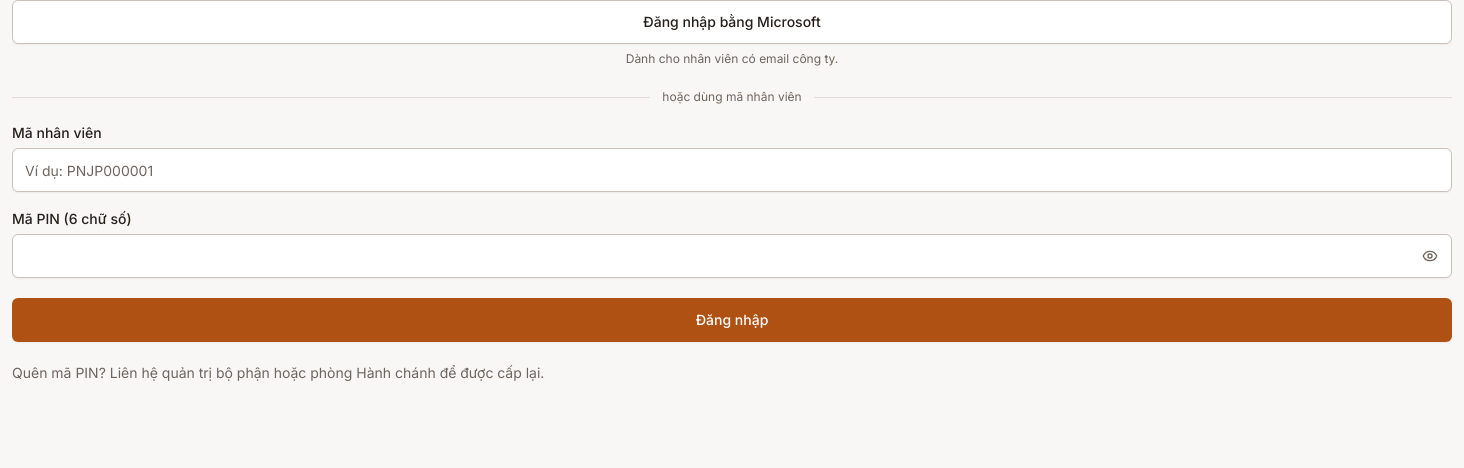
Scenario: LoginForm › shows when a locked account can try again, in Vietnam time
Type "PNJP000001" into the field labelled "Mã nhân viên".
click(732, 170); type("PNJP000001")  # box [12, 148, 1452, 192]
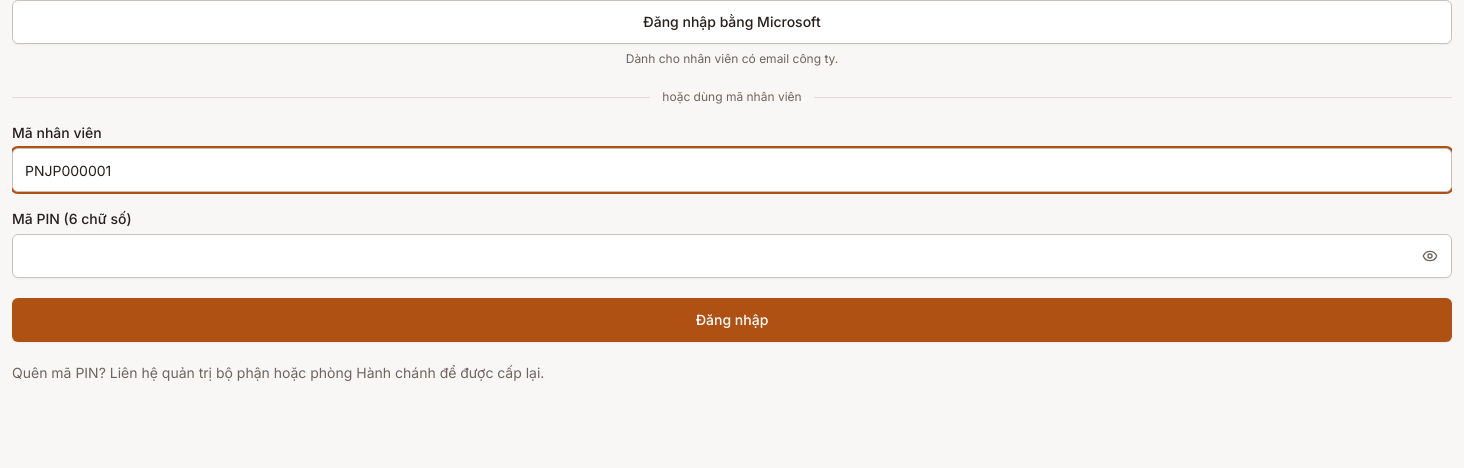
Type "000000" into the password field labelled "Mã PIN (6 chữ số)".
click(732, 256); type("000000")  # box [12, 234, 1452, 278]
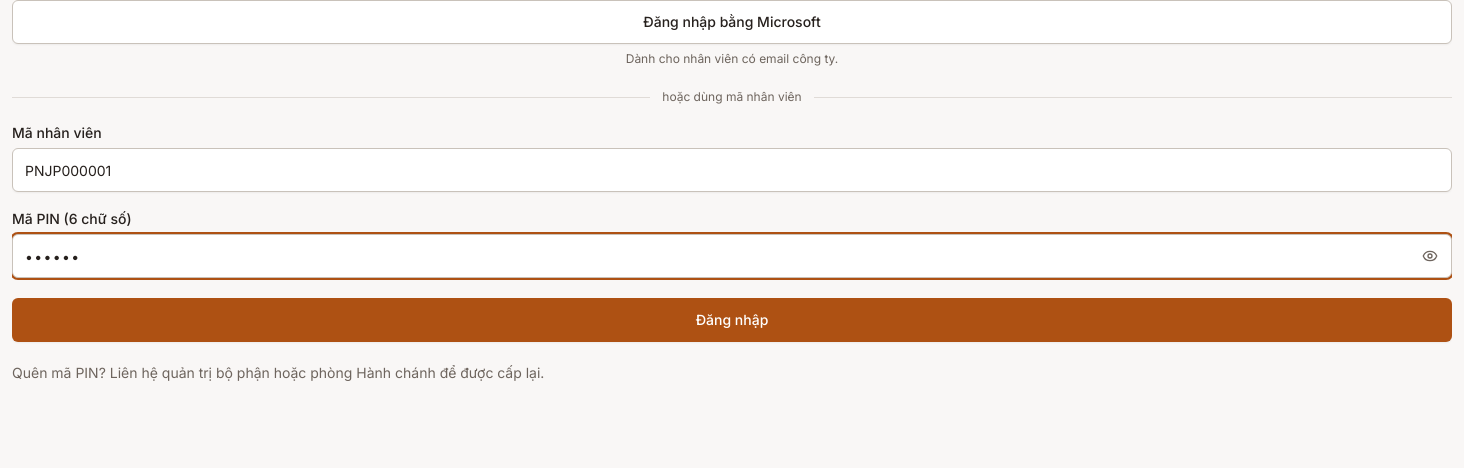
Click the button "Đăng nhập".
click(732, 320)  # box [12, 298, 1452, 342]
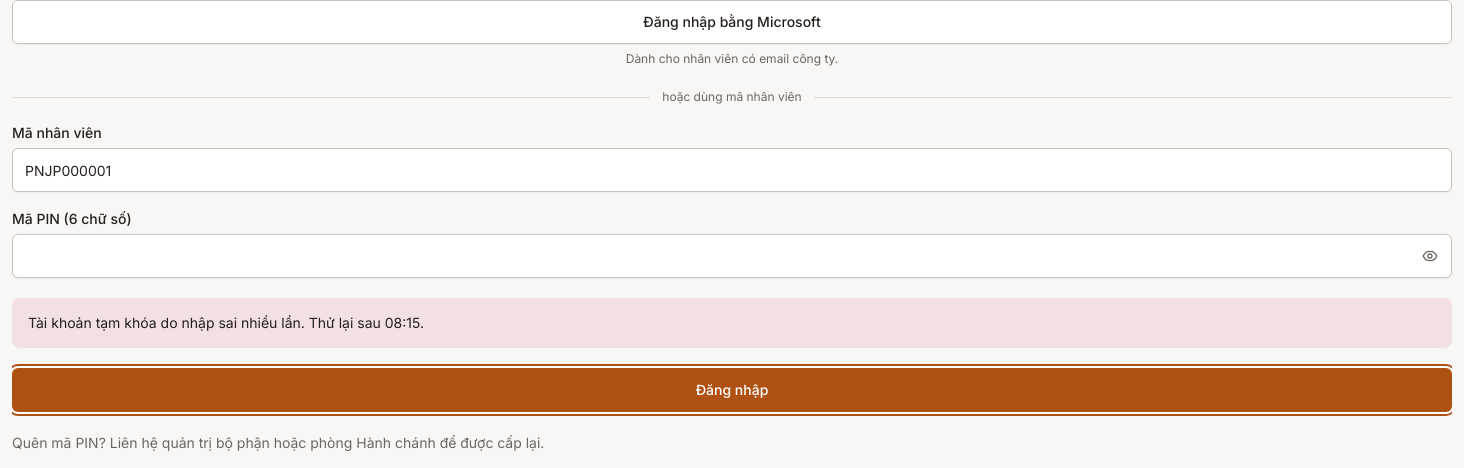
Expected: the message shows "Thử lại sau 08:15.", [28, 314, 424, 331]
